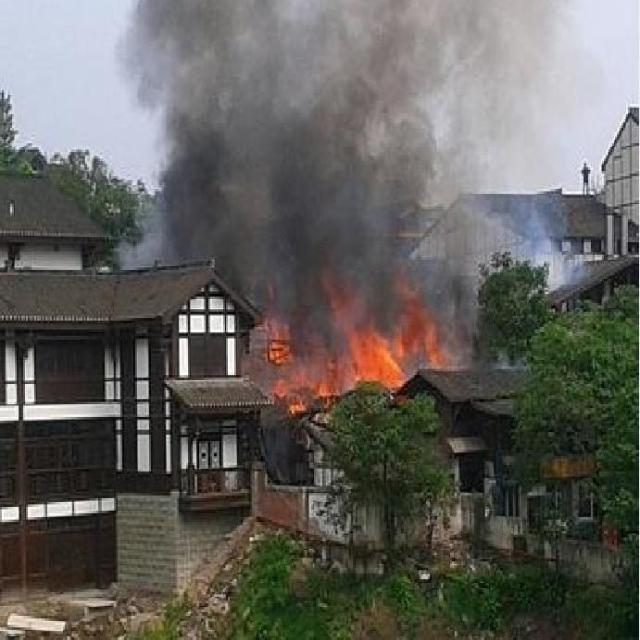Fire: (258, 284, 452, 416)
Smoke: (114, 0, 580, 368)
